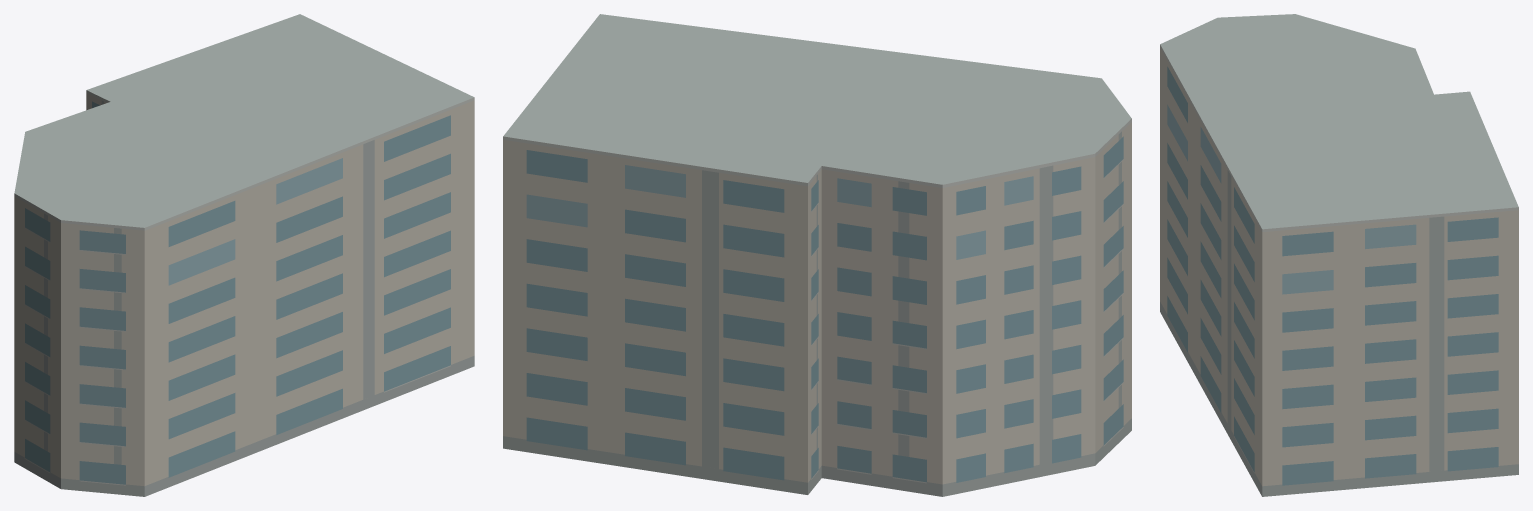
File: survey-upis-33022935.glb
3 views of the same model, side by side, from view 1: azimuth 30°, elevation 25°; view 2: azimuth 150°, elevation 25°; view 3: azimuth 270°, elevation 25° (orthographic). The views are drawn at different scales.
Parts seen in each view (by area): view 1: survey-upis-33022935.tmp; view 2: survey-upis-33022935.tmp; view 3: survey-upis-33022935.tmp.
Boxes of the visible parts, x1,y1,x2,y2 form: survey-upis-33022935.tmp: [14, 14, 474, 496]; survey-upis-33022935.tmp: [503, 14, 1131, 496]; survey-upis-33022935.tmp: [1160, 14, 1518, 496].
Bounding box in the file's own units: 39.52 × 22.9 × 27.83.
